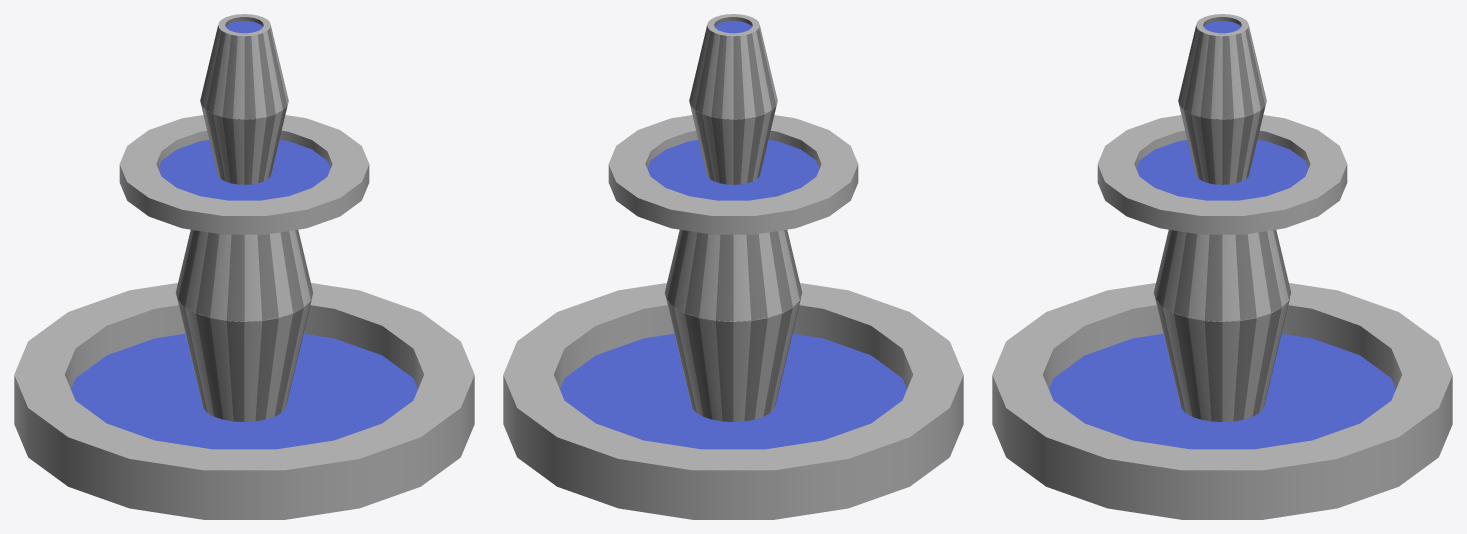
Rendered from Fountain.FBX.
The picture shows the model from 3 angles, left to right: view 1: azimuth 30°, elevation 25°; view 2: azimuth 150°, elevation 25°; view 3: azimuth 270°, elevation 25°; orthographic projection.
Parts seen in each view (by area): view 1: Fountain; view 2: Fountain; view 3: Fountain.
Boxes of the visible parts, x1,y1,x2,y2 form: Fountain: [14, 14, 474, 519]; Fountain: [503, 14, 963, 519]; Fountain: [992, 14, 1452, 519].
Size of the model in its own units: 371 by 360 by 377.
